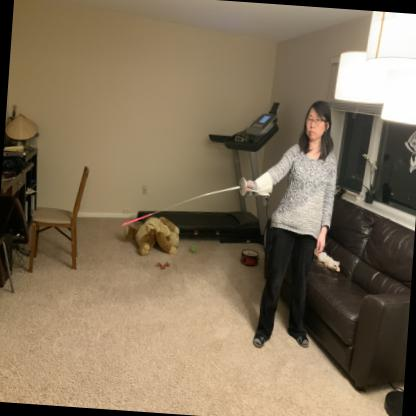foil-tip: (116, 216, 134, 237)
hand-and-foil: (110, 160, 275, 254)
